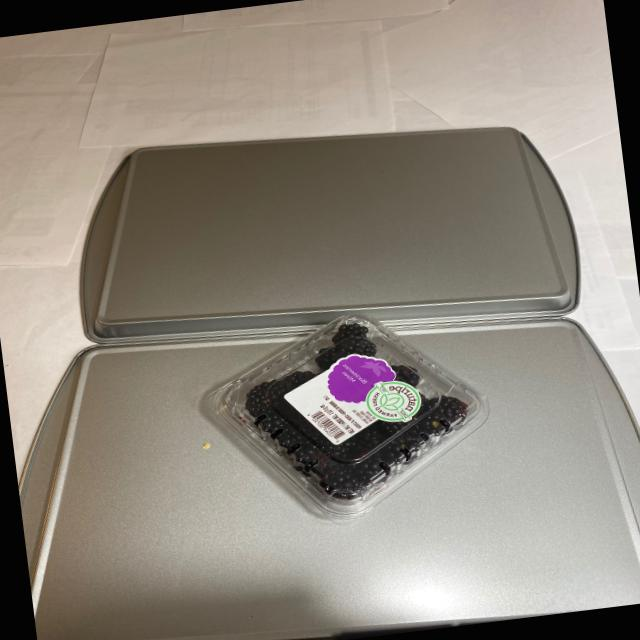blackberries: (214, 296, 473, 512)
